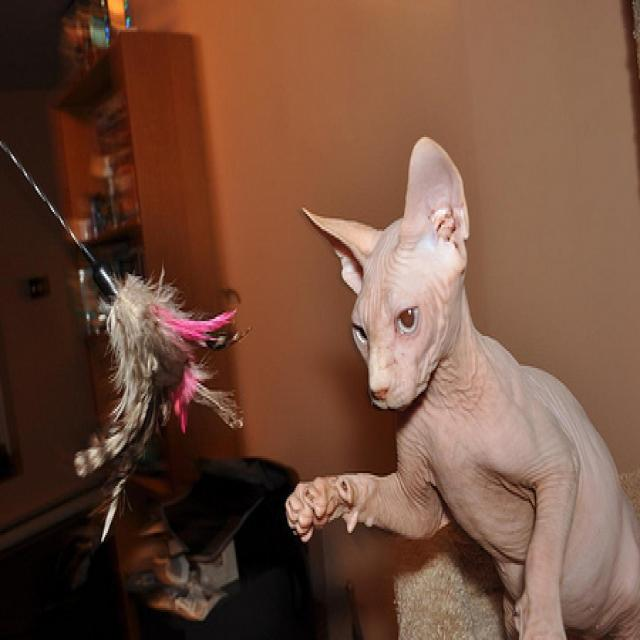Sphynx: (280, 132, 640, 640)
